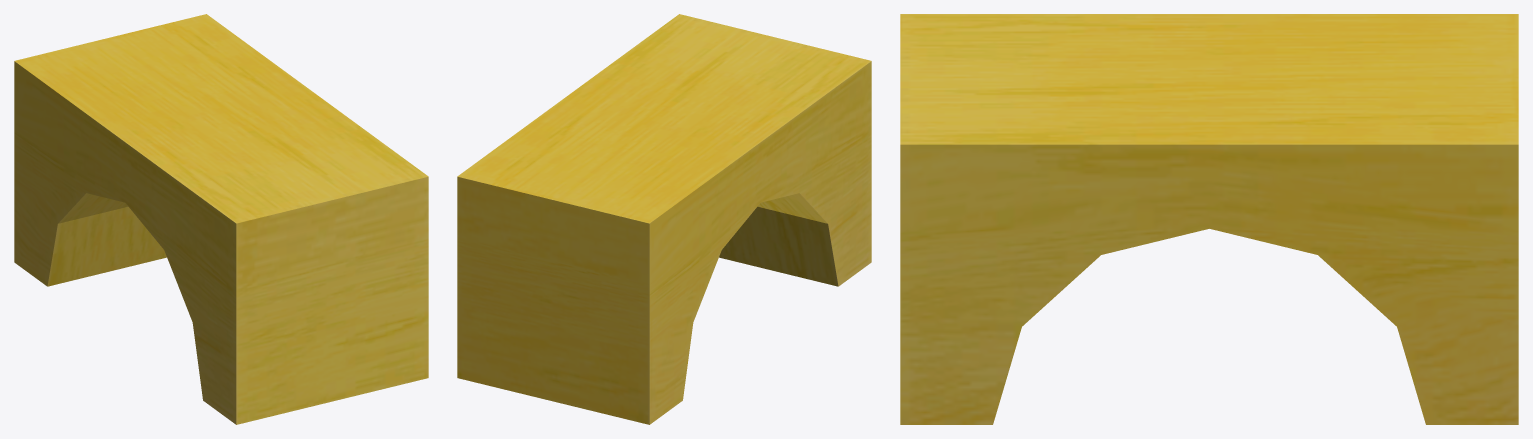
Rendered from BridgeBlock_Yellow.fbx.
3 views of the same model, side by side, from view 1: azimuth 30°, elevation 25°; view 2: azimuth 150°, elevation 25°; view 3: azimuth 270°, elevation 25° (orthographic). The views are drawn at different scales.
Parts seen in each view (by area): view 1: Cube.037; view 2: Cube.037; view 3: Cube.037.
Boxes of the visible parts, box(x1,y1,x2,y2) form: Cube.037: box(14, 14, 428, 424); Cube.037: box(457, 14, 871, 424); Cube.037: box(900, 14, 1518, 424).
Size of the model in its own units: 100 by 100 by 200.
